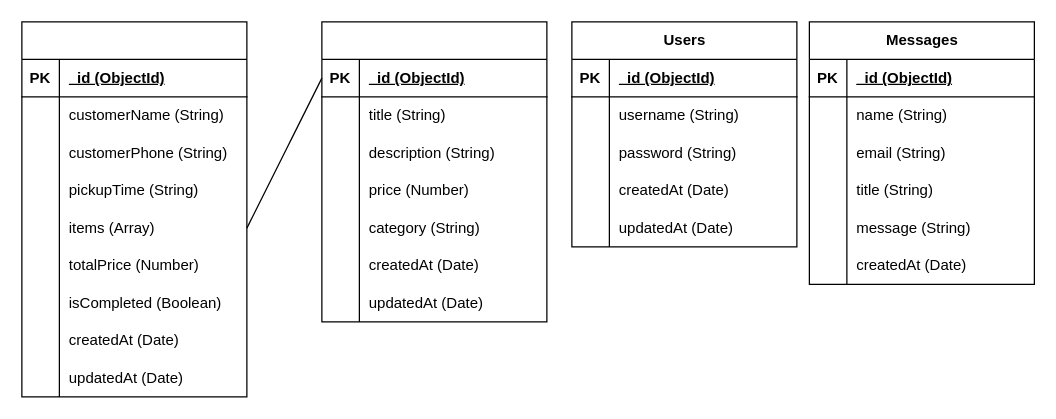
The diagram is 1056 pixels wide and 419 high, and some of its shapes have lost their labels. Here are the shapes that lost their labels. From the top down, the box of each, then its label:
(321, 21, 547, 322): Menus
(21, 21, 247, 397): Orders
